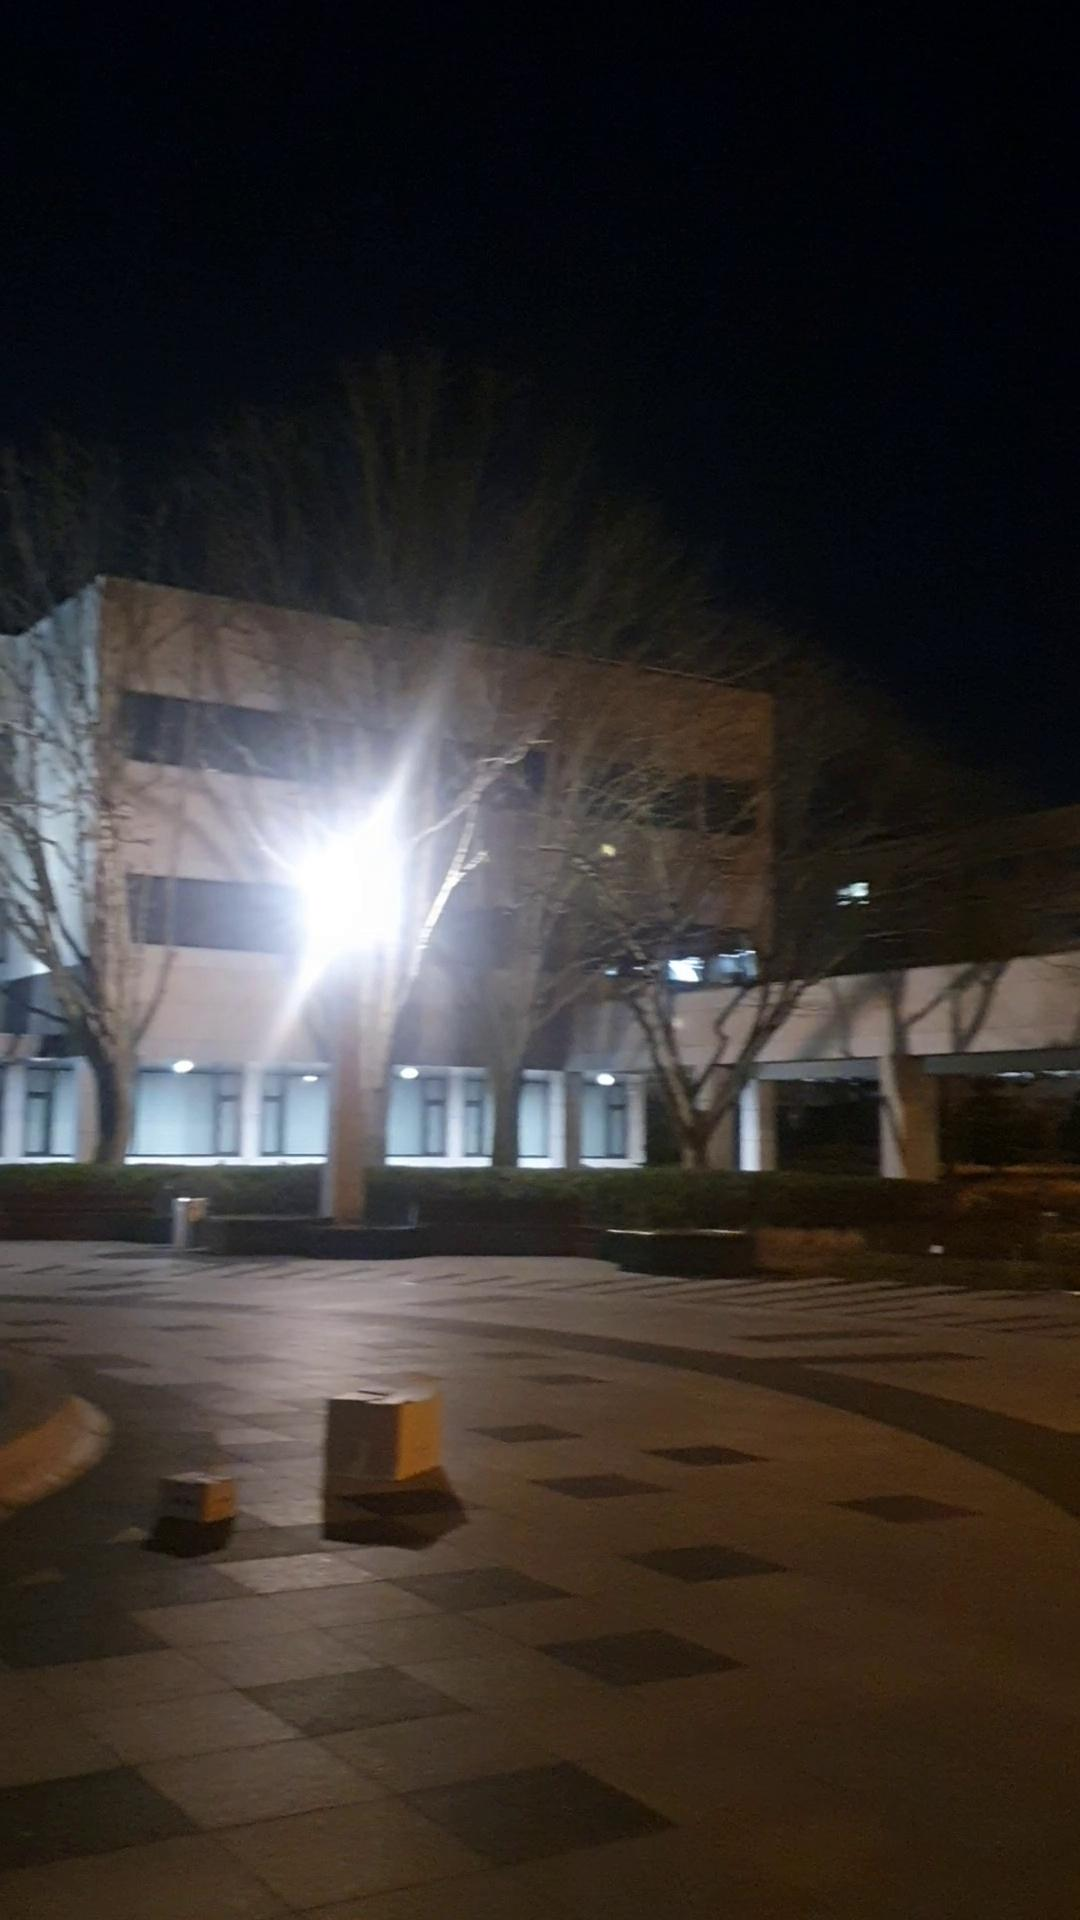Box: (316, 1367, 440, 1498), (164, 1458, 251, 1530)
